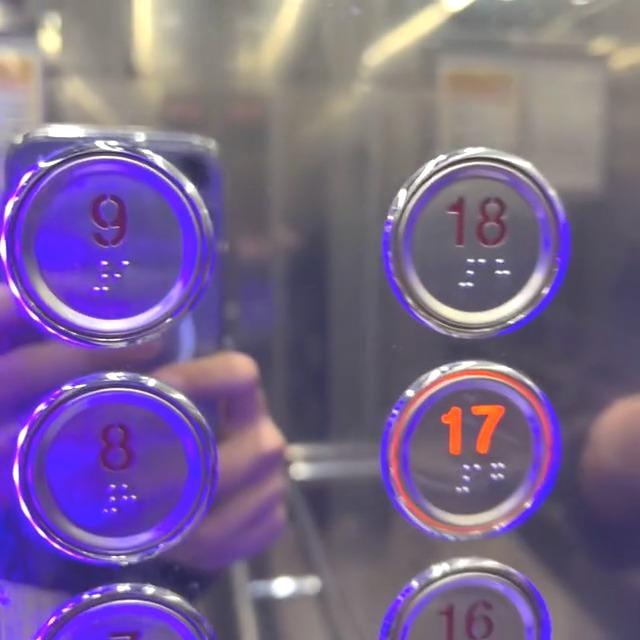button: (6, 155, 214, 343), (373, 156, 567, 323), (27, 377, 204, 536), (381, 378, 534, 538)
